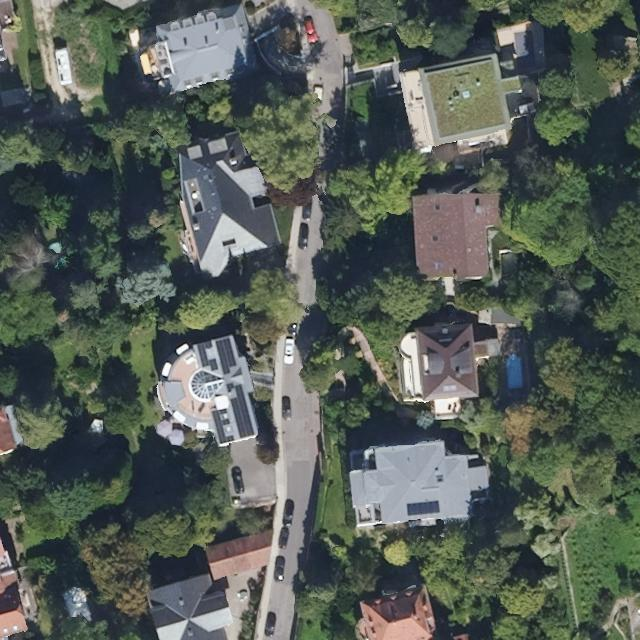PV: (226, 381, 257, 439), (211, 407, 236, 445), (214, 337, 238, 375), (196, 340, 219, 372), (406, 500, 441, 517)
